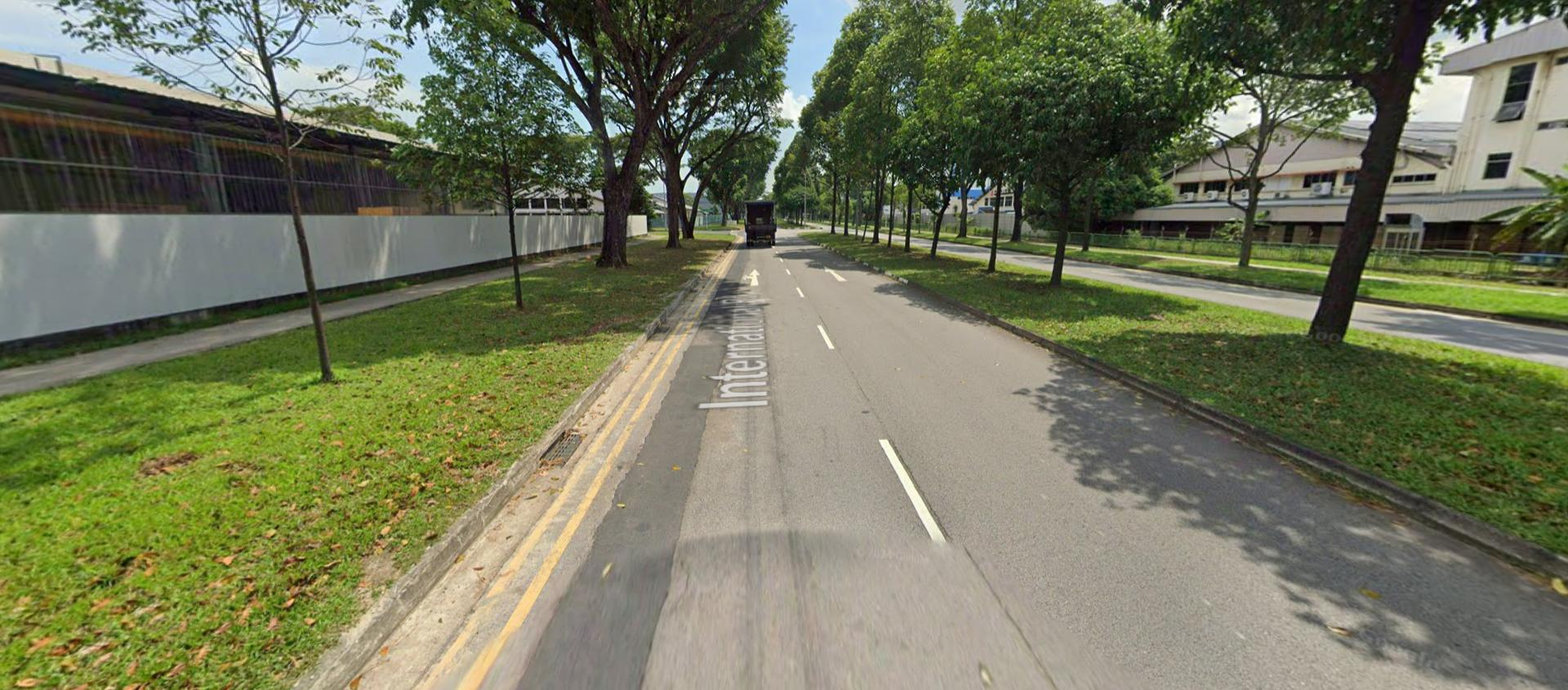defect: (542, 434, 589, 470)
